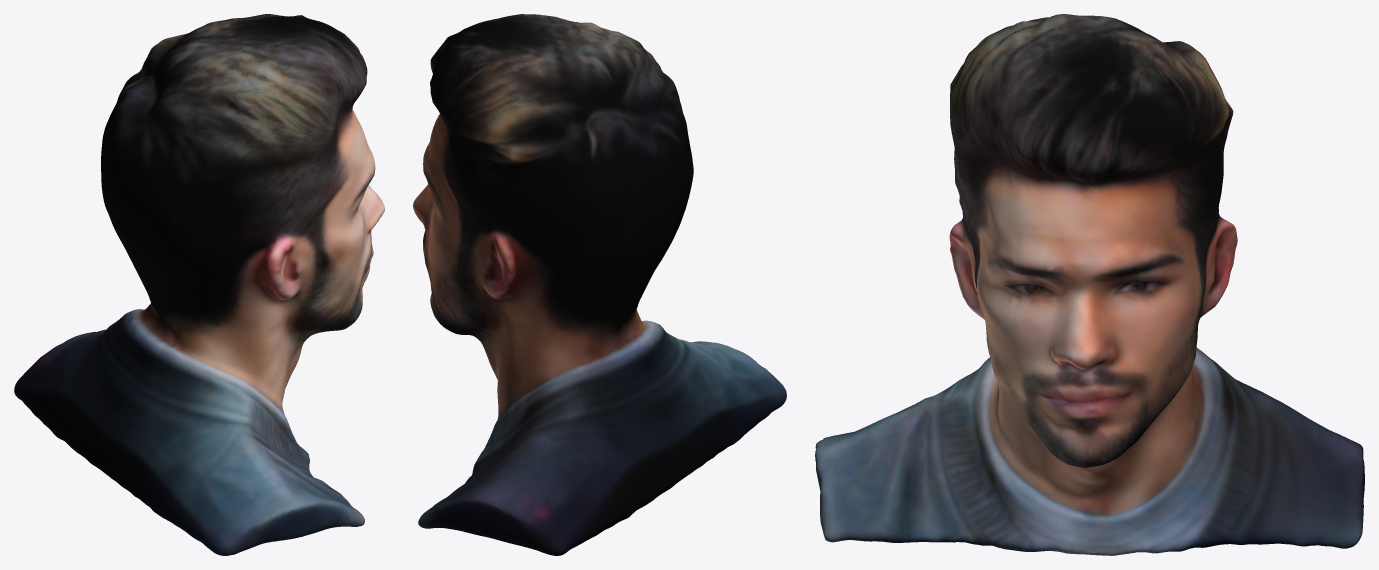
File: human_face_young.glb
3 views of the same model, side by side, from view 1: azimuth 30°, elevation 25°; view 2: azimuth 150°, elevation 25°; view 3: azimuth 270°, elevation 25° (orthographic). The views are drawn at different scales.
Visible parts, largest first — view 1: Object_3; view 2: Object_3; view 3: Object_3.
Part boxes in pixels (x1=…): Object_3: x1=14, y1=14, x2=384, y2=555; Object_3: x1=413, y1=14, x2=786, y2=555; Object_3: x1=815, y1=14, x2=1364, y2=555.
Bounding box in the file's own units: 0.5397 × 0.7716 × 0.7681.
Materials: 1 (1 with a texture image).
